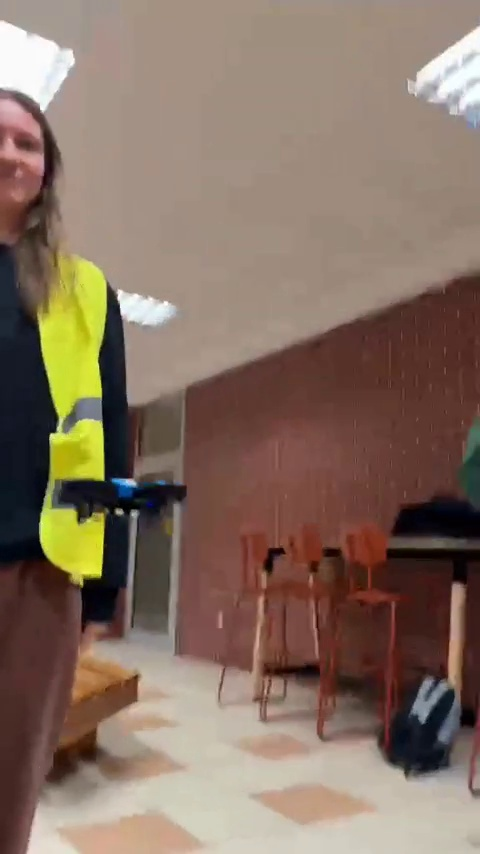drone: (68, 478, 186, 521)
vest: (0, 81, 137, 854)
